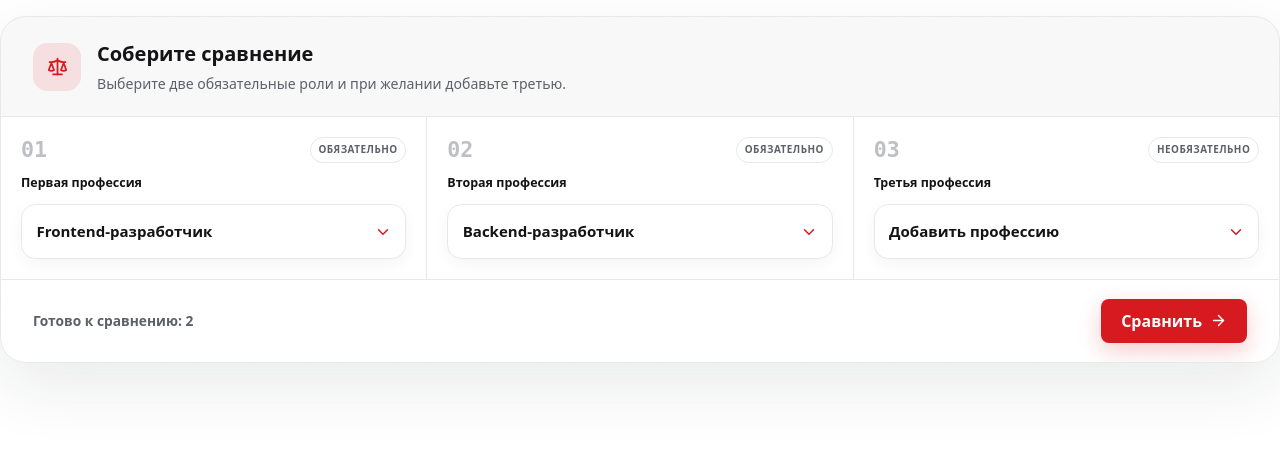
Test case: analytics components › keeps comparison behind the server-side Premium check
This screenshot has width=1280, height=454.
Step 1. Click the button "Сравнить" → (1174, 321), box 1101,299 -> 1247,343
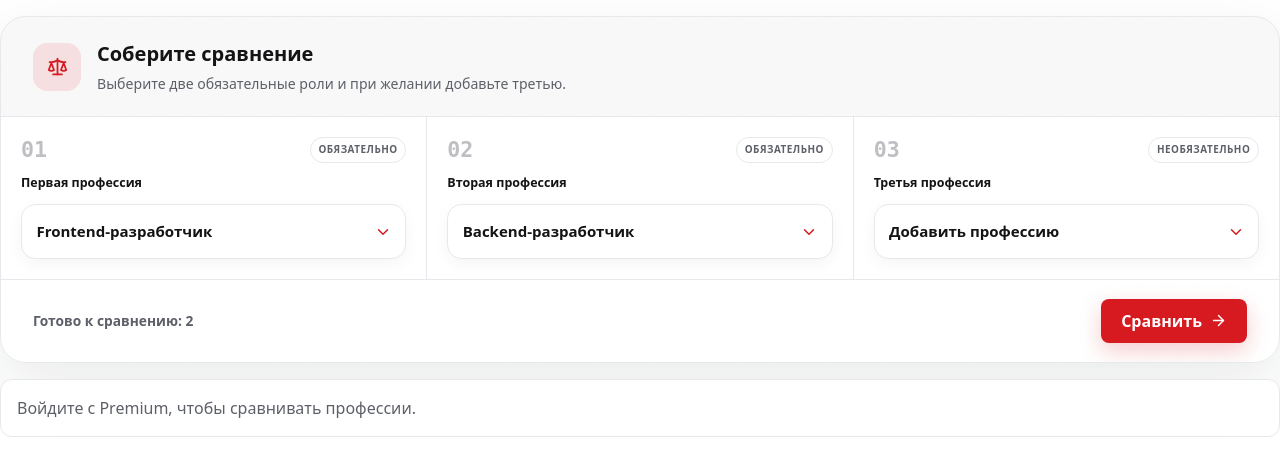
Check: the message shows "Войдите с Premium", box 17,397 -> 416,419
